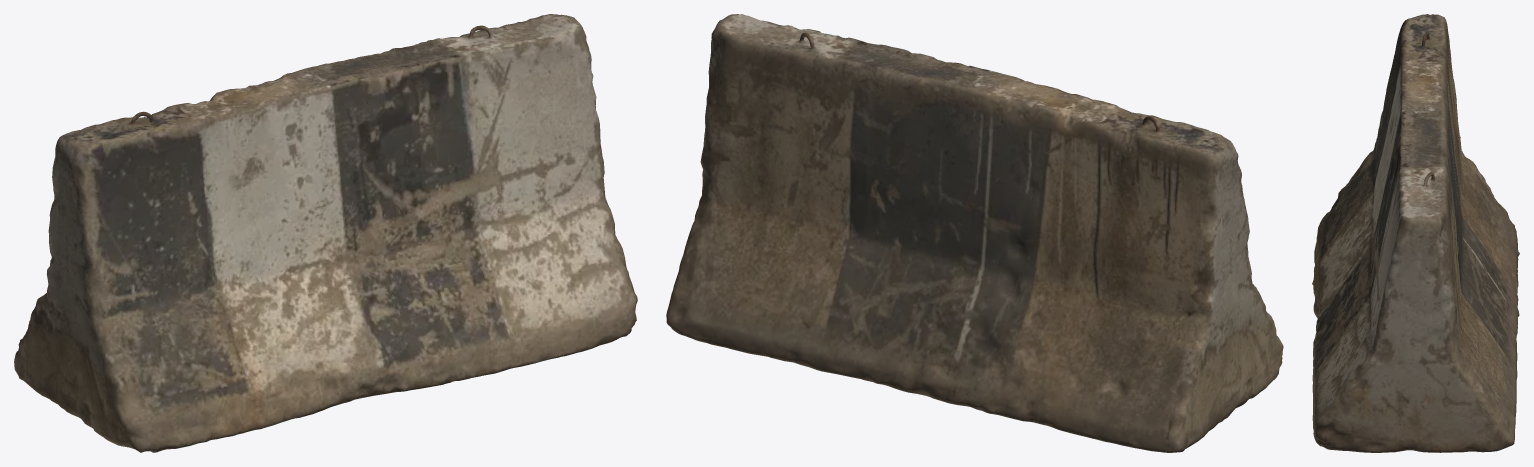
Rendered from barrier.glb.
3 renders of one model, left to right at view 1: azimuth 30°, elevation 25°; view 2: azimuth 150°, elevation 25°; view 3: azimuth 270°, elevation 25°, orthographic. The views are drawn at different scales.
Parts seen in each view (by area): view 1: concrete_road_barrier; view 2: concrete_road_barrier; view 3: concrete_road_barrier.
Boxes of the visible parts, left/top/right/bottom form: concrete_road_barrier: left=14, top=14, right=637, bottom=452; concrete_road_barrier: left=666, top=14, right=1283, bottom=452; concrete_road_barrier: left=1312, top=14, right=1519, bottom=452.
Bounding box in the file's own units: 1.55 × 0.8309 × 0.6388.
Materials: 1 (1 with a texture image).
